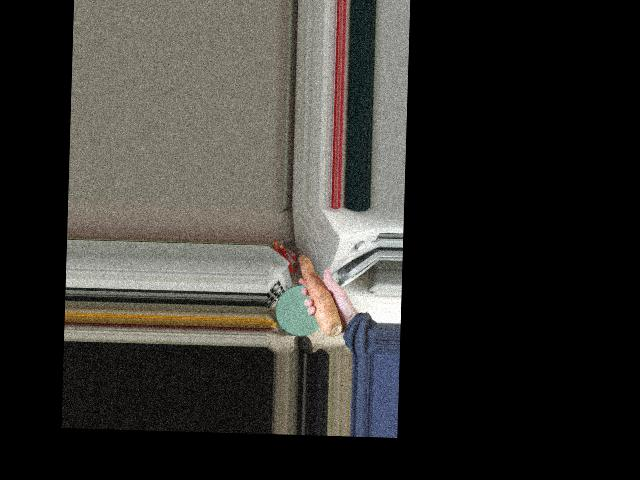sweet_potato: (292, 248, 347, 338)
